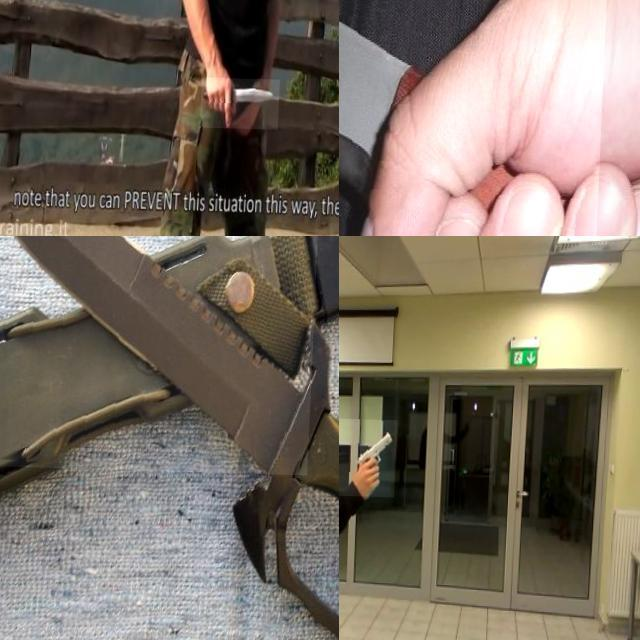-: (0, 236, 322, 472), (339, 0, 610, 236), (204, 76, 284, 128)
gun-knife-thesis - v11 Yolov5 augmented: (339, 417, 400, 495)
